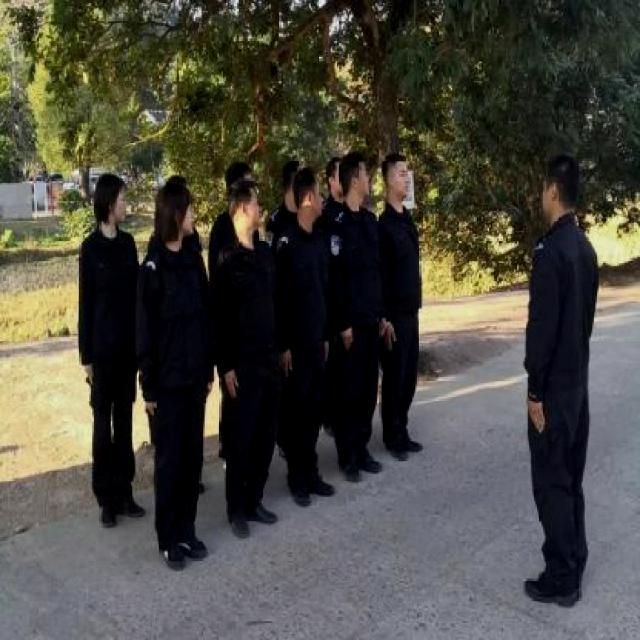face_nomask: (389, 163, 417, 199)
hand_noglove: (525, 396, 546, 432), (224, 369, 242, 397), (280, 351, 294, 377), (342, 326, 356, 351), (385, 320, 397, 349), (83, 362, 94, 386), (144, 397, 158, 415), (322, 338, 332, 360), (206, 378, 214, 396), (380, 318, 388, 334)
head_nohelmet: (542, 151, 588, 217), (155, 191, 200, 215), (90, 175, 128, 197), (223, 160, 251, 189), (236, 179, 262, 203), (346, 150, 368, 176), (385, 154, 417, 171), (300, 171, 322, 194), (163, 175, 185, 191), (282, 160, 302, 177)
person: (502, 148, 616, 612), (138, 197, 214, 572), (214, 182, 275, 536), (82, 166, 138, 537), (272, 171, 328, 509), (375, 155, 437, 457), (332, 160, 376, 486)
shoes: (514, 558, 592, 611), (150, 532, 190, 574), (378, 425, 412, 461), (226, 502, 252, 546), (348, 444, 386, 474), (333, 450, 364, 485), (242, 502, 280, 528), (285, 479, 313, 512), (174, 532, 209, 558)
